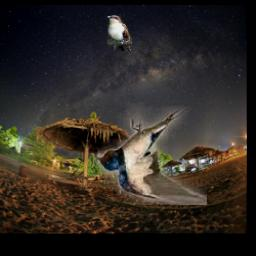Cuckoo: (108, 15, 132, 51)
Swallow: (96, 96, 206, 206)
